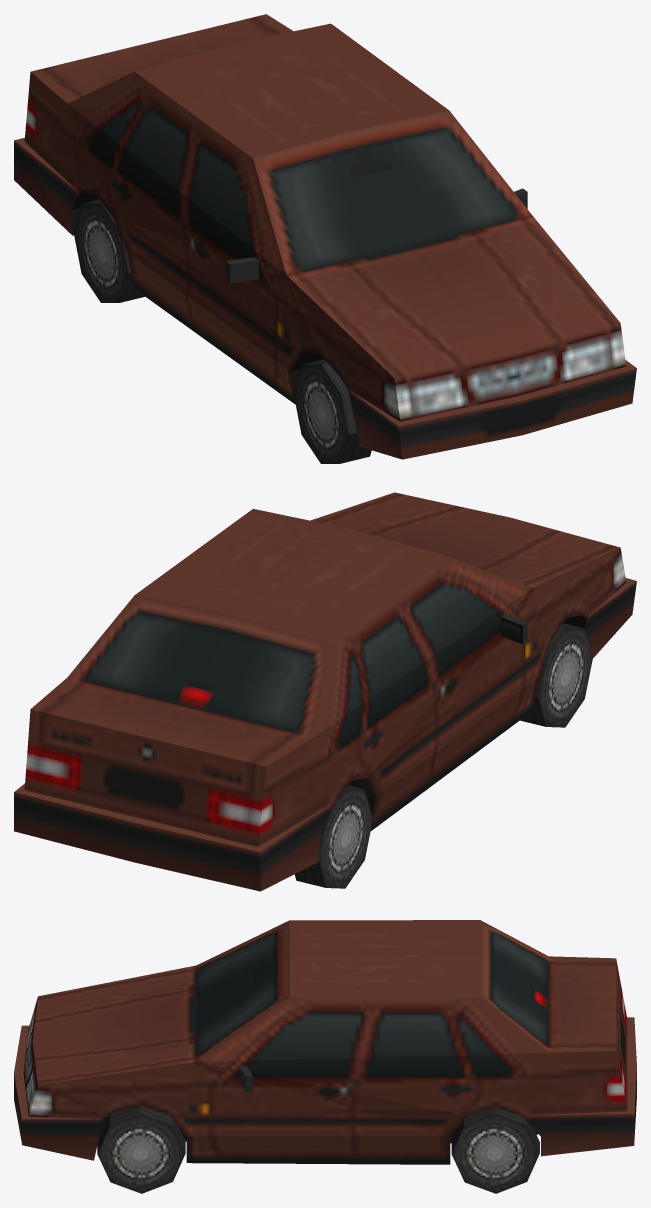
The model's file is Auto3rojo.fbx.
3 renders of one model, top to bottom at view 1: azimuth 30°, elevation 25°; view 2: azimuth 150°, elevation 25°; view 3: azimuth 270°, elevation 25°, orthographic. The views are drawn at different scales.
Parts seen in each view (by area): view 1: Car2; view 2: Car2; view 3: Car2.
Boxes of the visible parts, x1,y1,x2,y2 form: Car2: [14, 14, 636, 463]; Car2: [14, 492, 636, 891]; Car2: [14, 920, 636, 1193].
Size of the model in its own units: 290 by 220 by 653.
